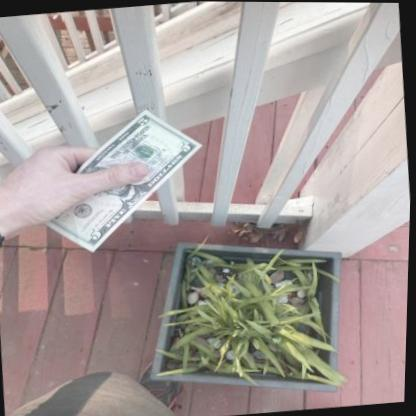five-front: (39, 110, 203, 252)
